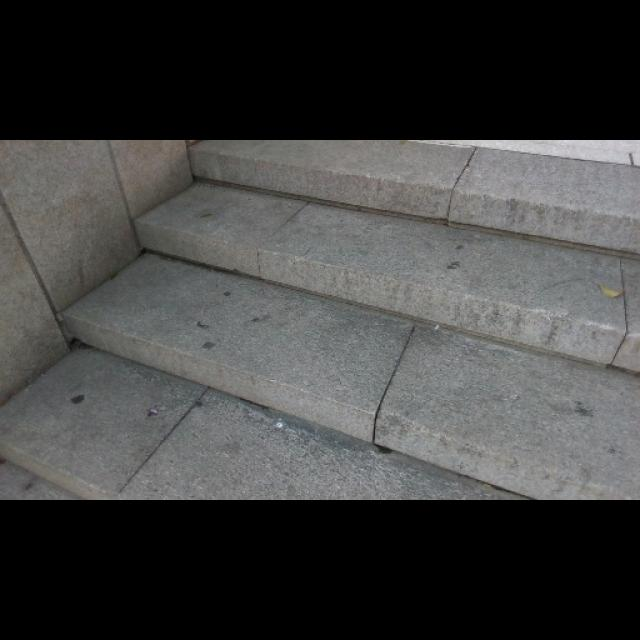Stairs: (0, 139, 639, 500)
